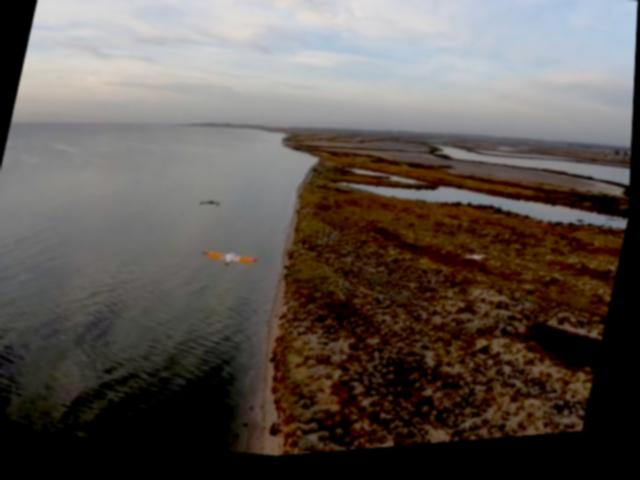uav: (196, 244, 265, 279)
